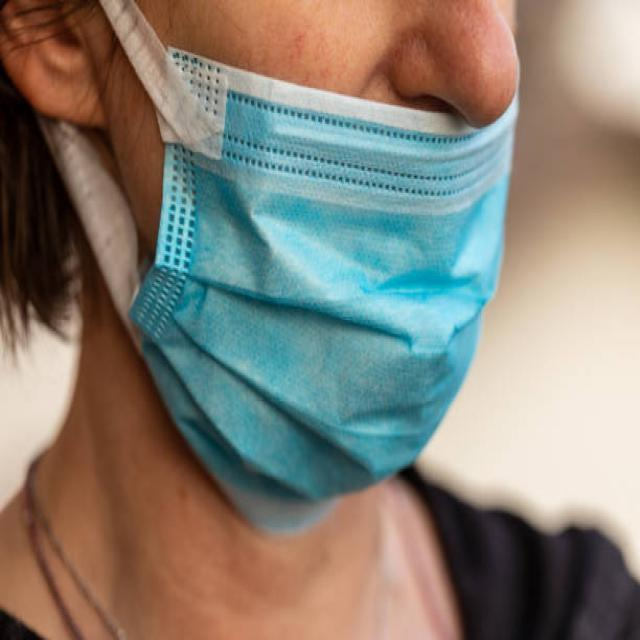hairnet: (67, 3, 526, 541)
